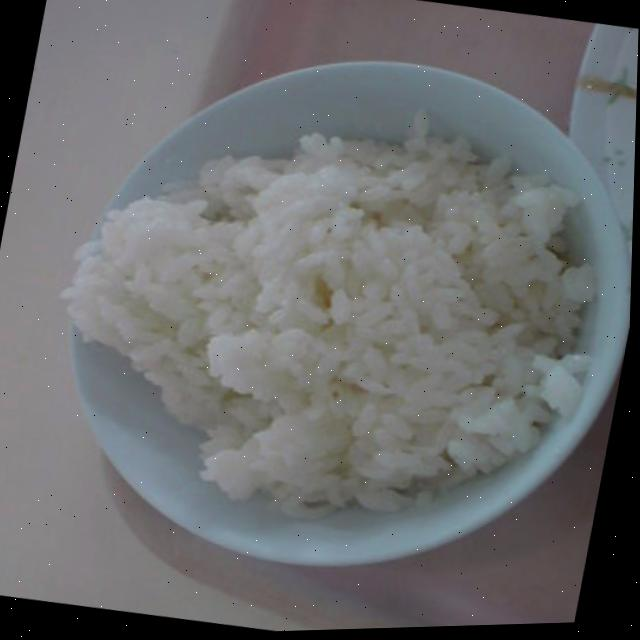米饭主食: (11, 16, 639, 612)
